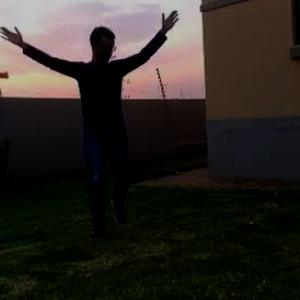takeoff: (1, 0, 182, 243)
